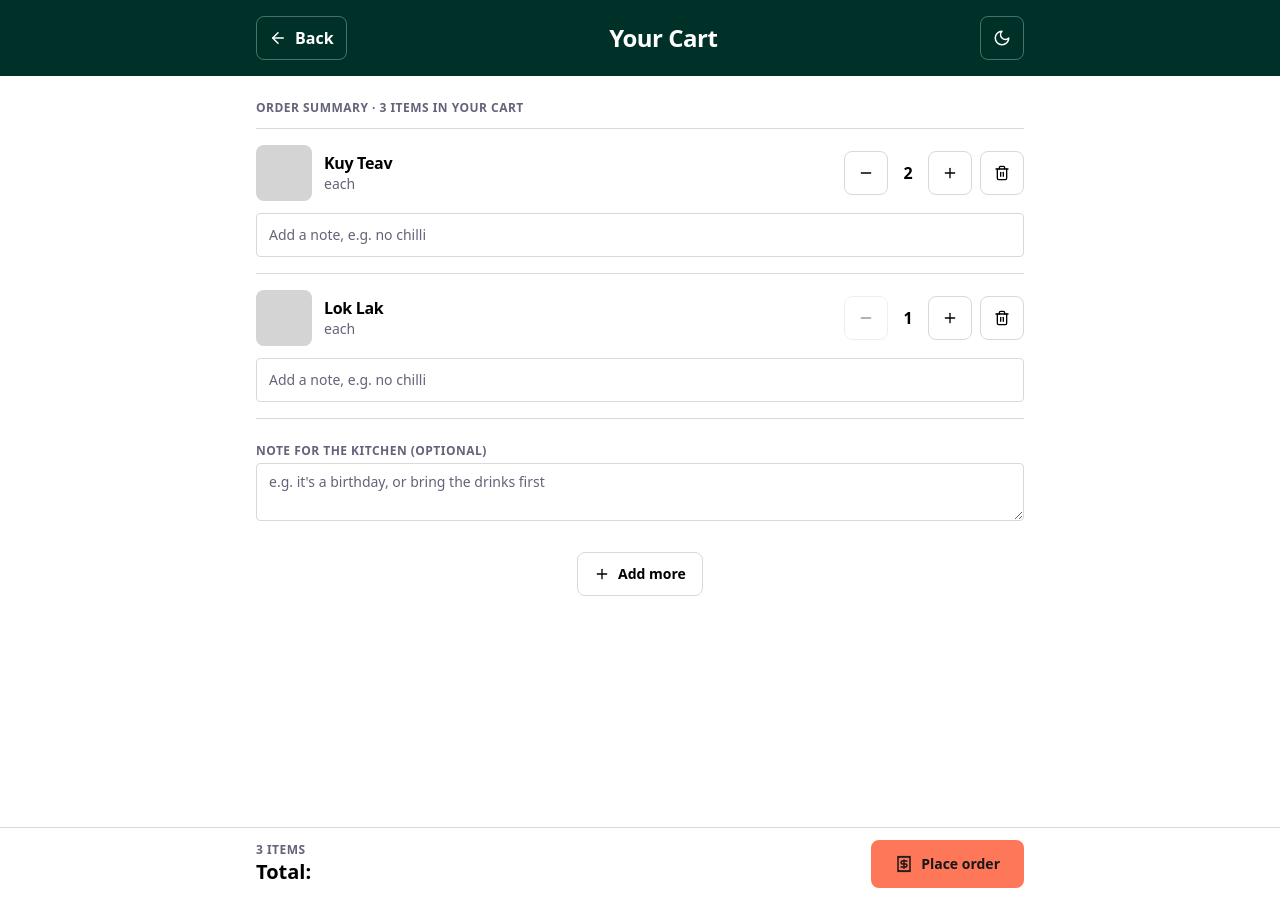
Test: order errors › dishes no longer available: reloads the menu and takes those dishes out of the cart
Expected: the heading "Kuy Teav" is shown, [324,152,392,174]
What coordinates should you click on to do the following:
click the button "Place order"
I would click on:
 (948, 864)
Its box is [871,840,1024,888].
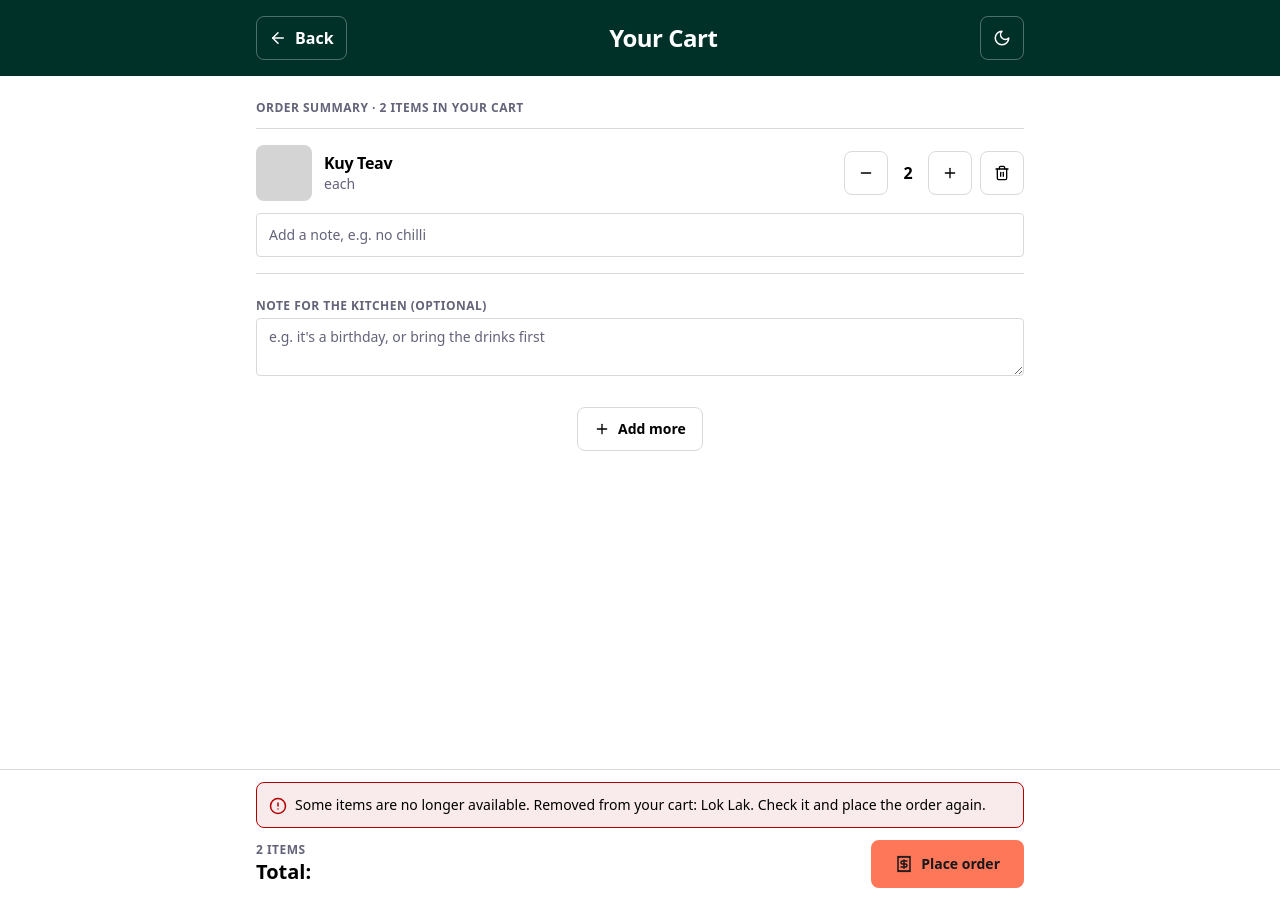
Now the message shows "Some items are no longer available", box [295,795,986,814]
Now the message shows "Lok Lak", box [295,795,986,814]
